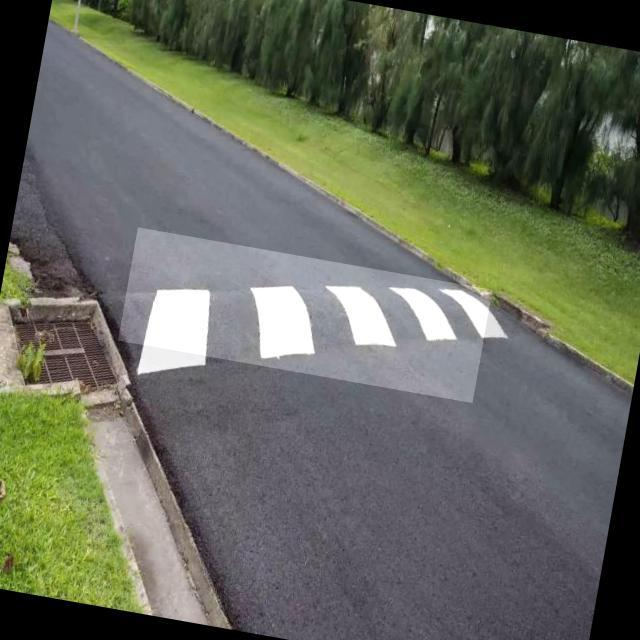speedbreaker: (117, 227, 492, 403)
